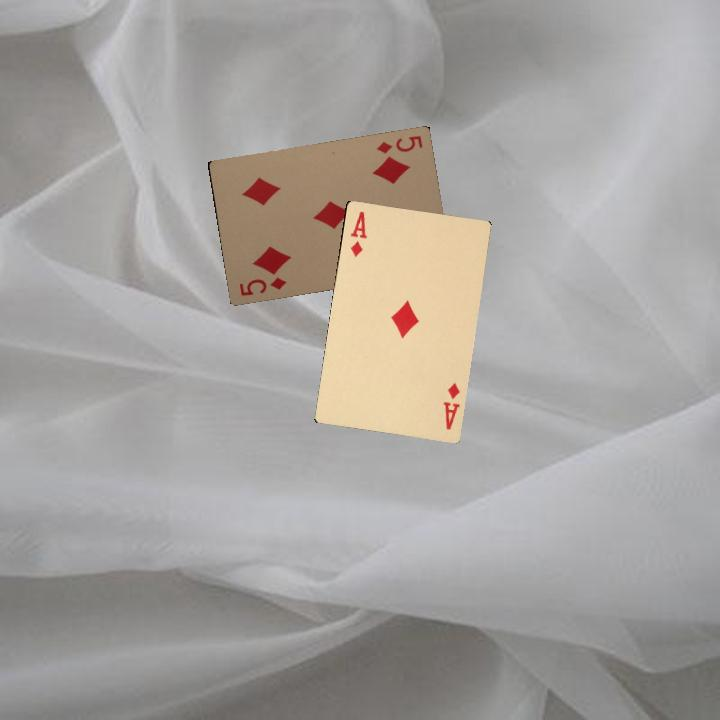5d: (235, 273, 289, 299), (372, 131, 425, 156)
Ad: (346, 207, 369, 260), (439, 380, 462, 432)
